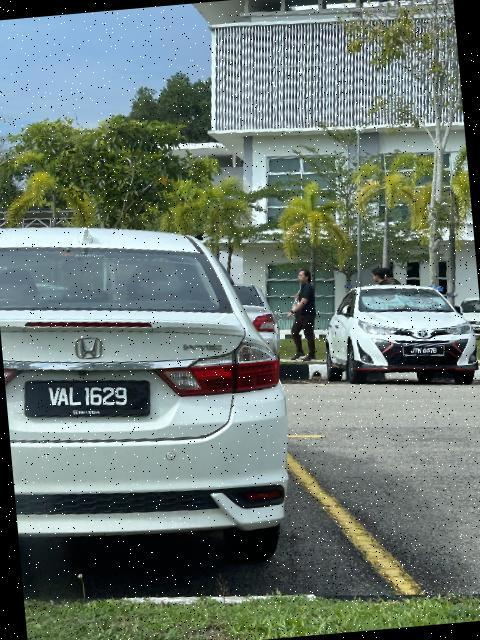License_Plate: (21, 371, 157, 433), (401, 341, 446, 363)
VAL1629: (21, 371, 157, 433)
car: (1, 190, 302, 587)
